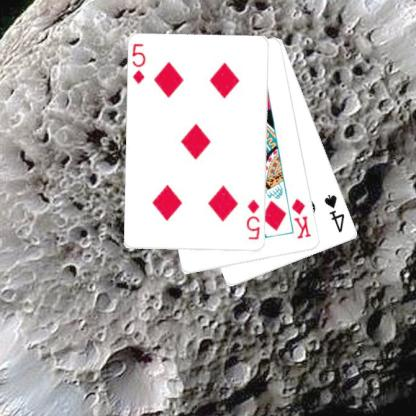4S: (322, 192, 346, 234)
5D: (244, 197, 262, 241), (130, 41, 147, 86)
KD: (289, 196, 313, 240)
